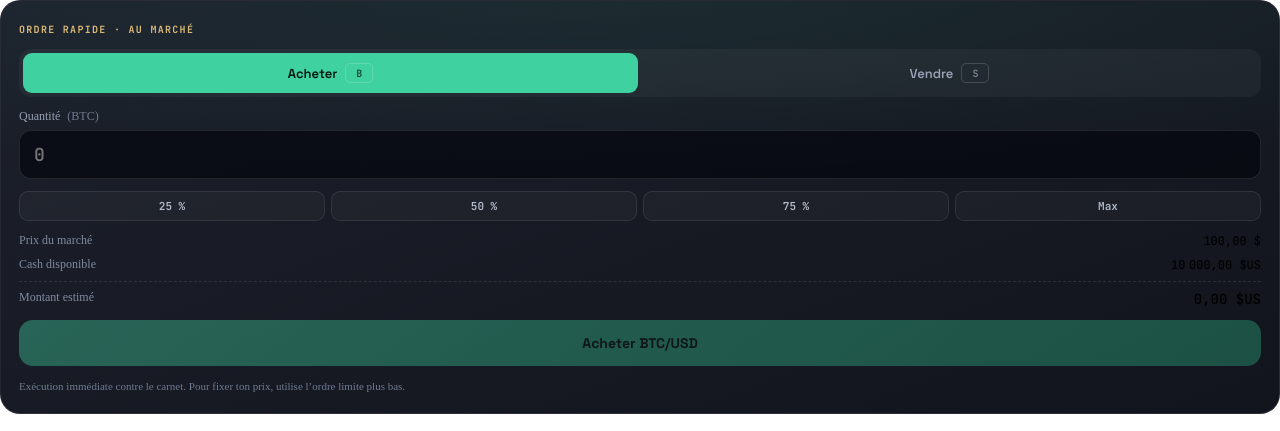
Test: QuickTrade › remplit la quantité avec les raccourcis 50 % et Max
Click the button "50 %": (484, 206) [331,191,637,221]
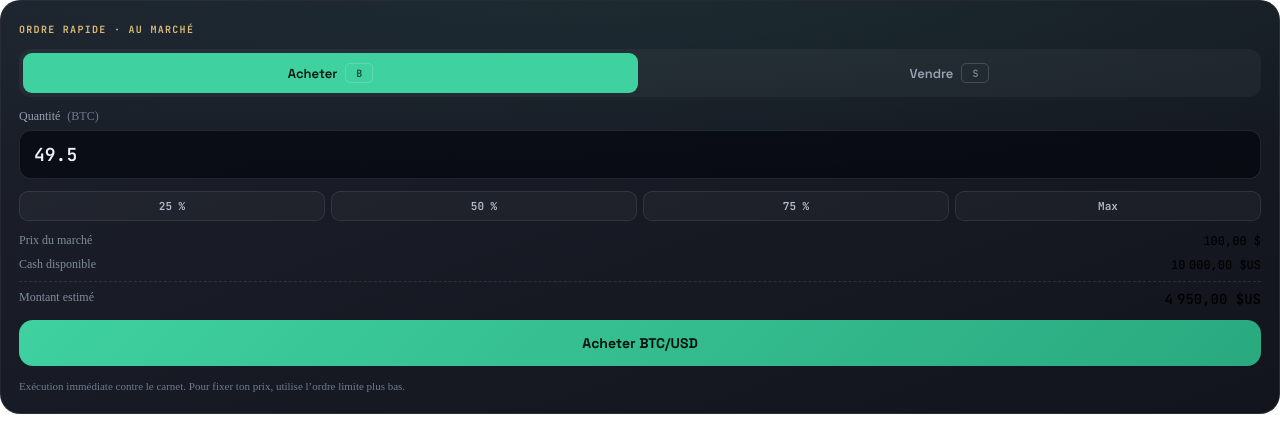
Now the number field holds "49.5", box [19,130,1261,179]
Click the button "Max": (1108, 206) [955,191,1261,221]
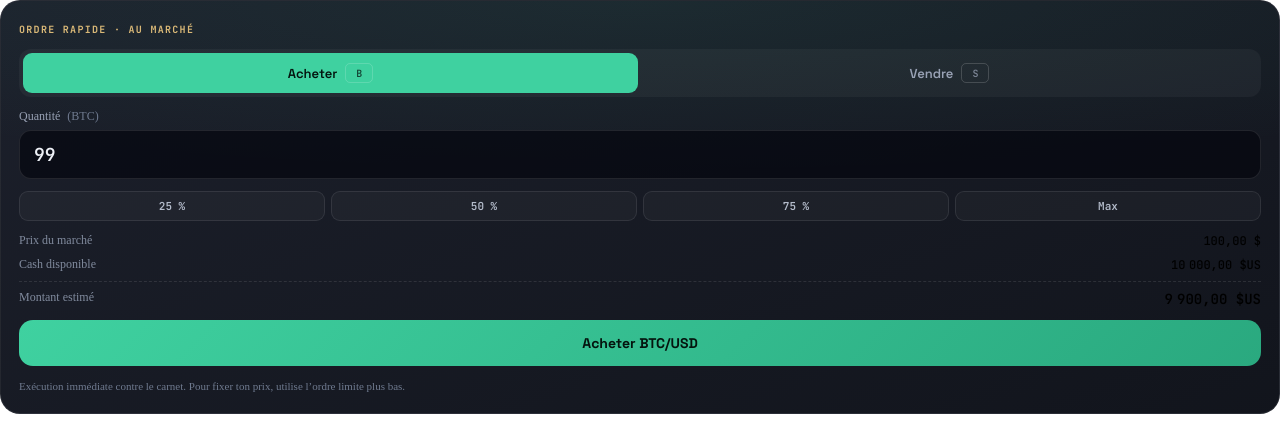
Now the number field holds "99", box [19,130,1261,179]
